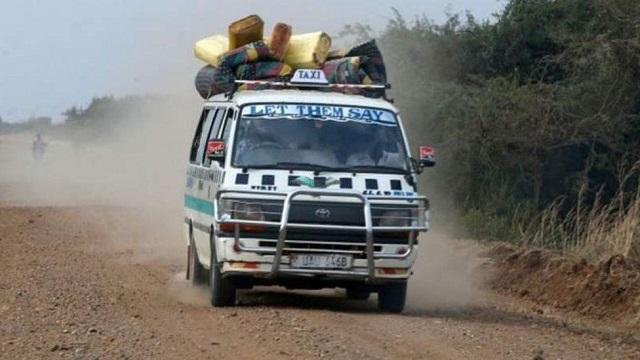van: (180, 89, 435, 311)
